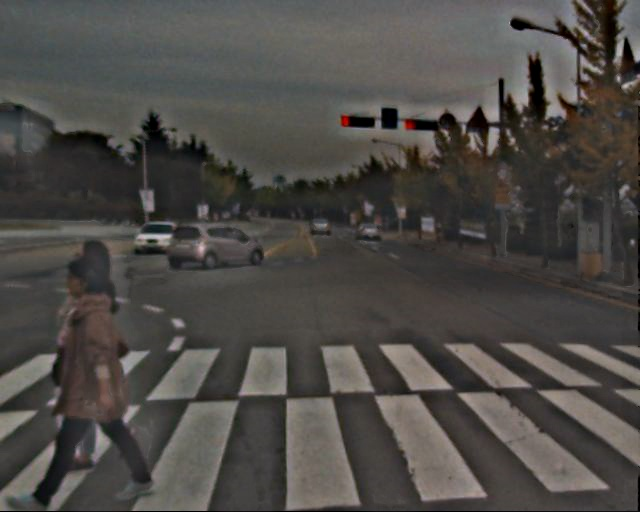person: (39, 257, 149, 499), (49, 241, 154, 470)
